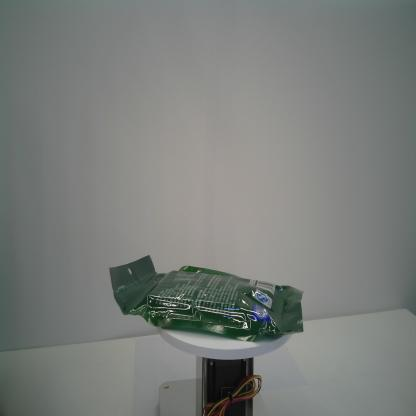Dried Food: (108, 253, 304, 343)
